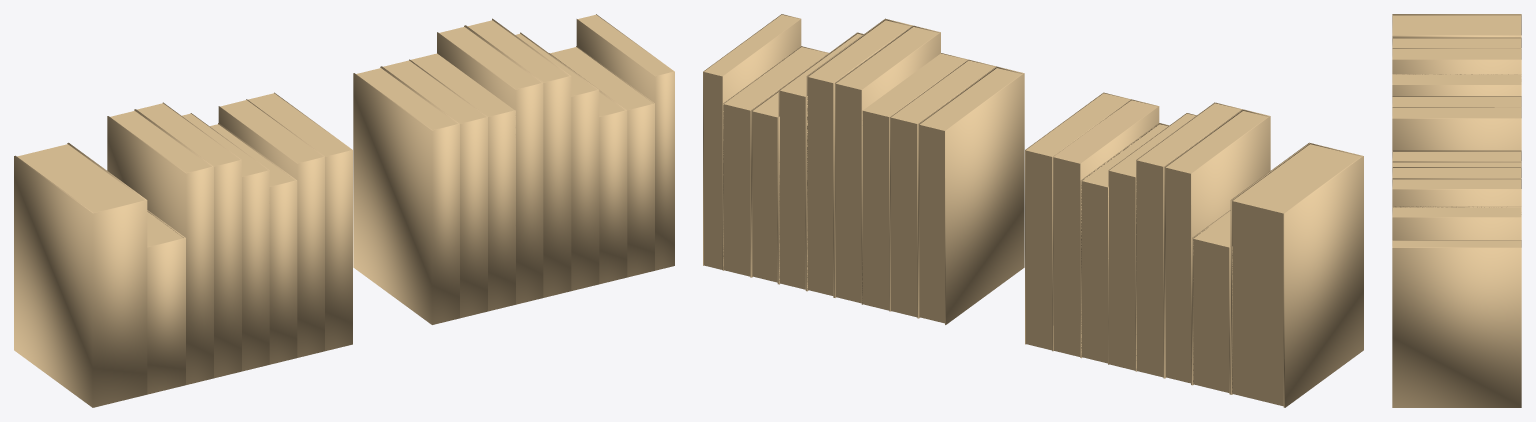
File: Libros 1.fbx
3 renders of one model, left to right at view 1: azimuth 30°, elevation 25°; view 2: azimuth 150°, elevation 25°; view 3: azimuth 270°, elevation 25°, orthographic. The views are drawn at different scales.
Visible parts, largest first — view 1: Books; view 2: Books; view 3: Books.
Boxes of the visible parts, x1=… form: Books: x1=14, y1=14, x2=674, y2=407; Books: x1=703, y1=14, x2=1363, y2=407; Books: x1=1392, y1=14, x2=1521, y2=407.
Bounding box in the file's own units: 94 × 33.17 × 22.
